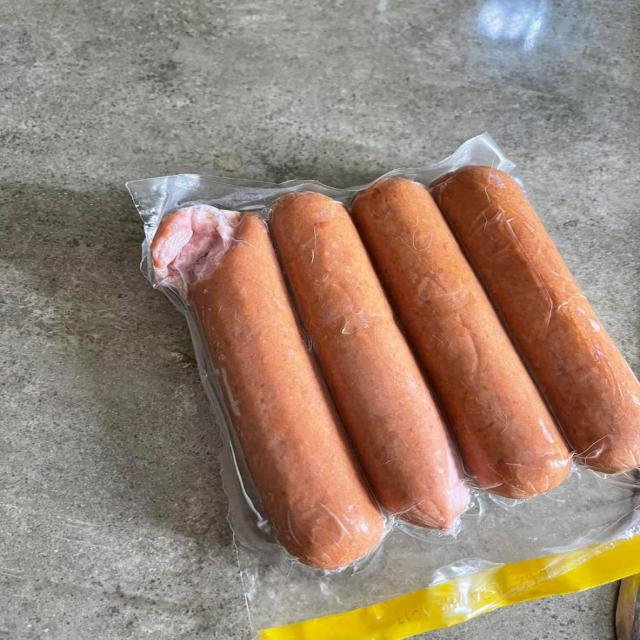sausage: (152, 206, 383, 569), (353, 179, 570, 497), (270, 193, 468, 529), (432, 167, 639, 472)
